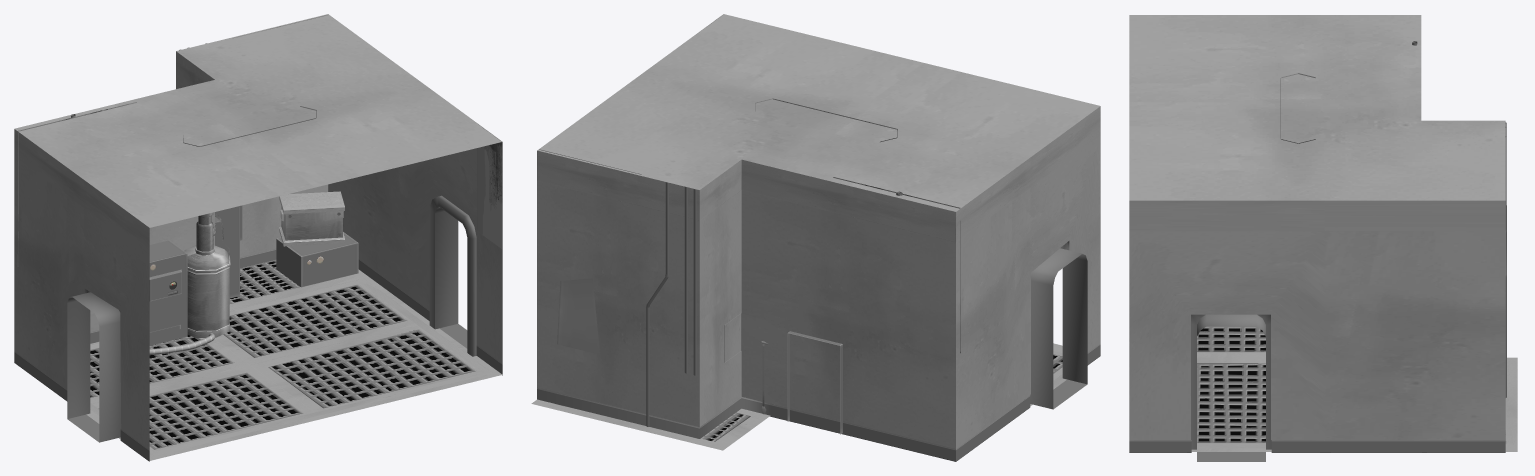
File: MSH_QuestVault_L1_R1_optimized.fbx
3 views of the same model, side by side, from view 1: azimuth 30°, elevation 25°; view 2: azimuth 150°, elevation 25°; view 3: azimuth 270°, elevation 25° (orthographic). The views are drawn at different scales.
Visible parts, largest first — view 1: lightmap2, lightmap1, lightmap0, MSH_QuestVaultl_L1_R1_Dirt_01; view 2: lightmap2, lightmap1, MSH_QuestVaultl_L1_R1_papers_01; view 3: lightmap2, lightmap1.
Boxes of the visible parts, left/top/right/bottom form: lightmap2: left=14, top=14, right=502, bottom=461; lightmap1: left=67, top=43, right=476, bottom=442; lightmap0: left=90, top=278, right=492, bottom=455; MSH_QuestVaultl_L1_R1_Dirt_01: left=17, top=14, right=502, bottom=266; lightmap2: left=531, top=14, right=1100, bottom=461; lightmap1: left=646, top=98, right=1087, bottom=426; MSH_QuestVaultl_L1_R1_papers_01: left=557, top=278, right=599, bottom=354; lightmap2: left=1129, top=15, right=1517, bottom=452; lightmap1: left=1191, top=41, right=1506, bottom=461.
Size of the model in its own units: 10.3 by 5.95 by 8.29.
